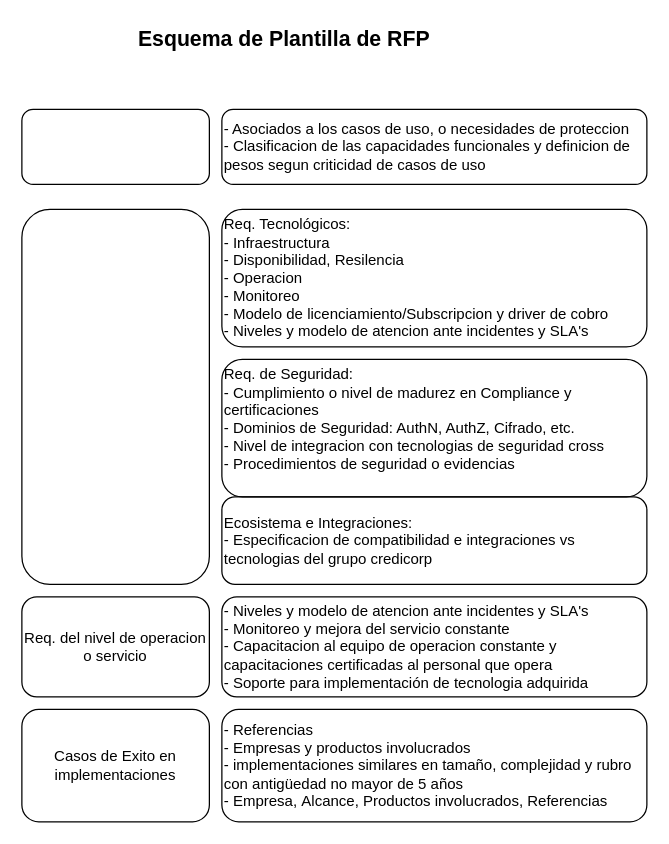
Some shapes in this 669 by 844 pixel diagram are drawn without their labels. Here are the shapes that lost their labels. From the top down, the centre of each, then its label:
At (x=115, y=146): "Req. funcionales (Propios de la tecnologia de seguridad)".
At (x=115, y=396): "Req. Tecnicos (Aspectos No Funcionales)".
